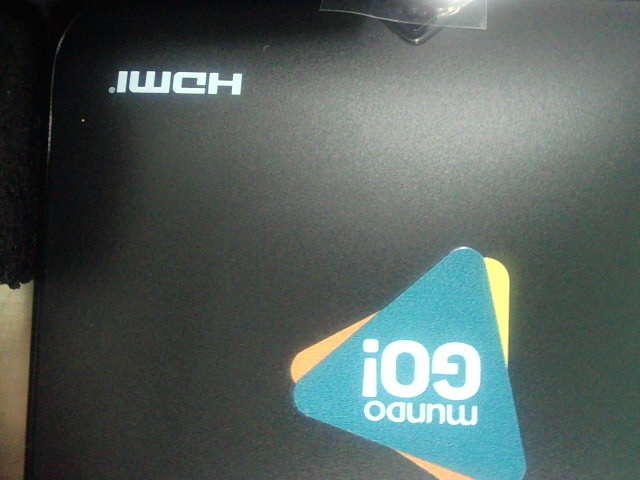AP_IPGMundoGO: (266, 238, 543, 479)
